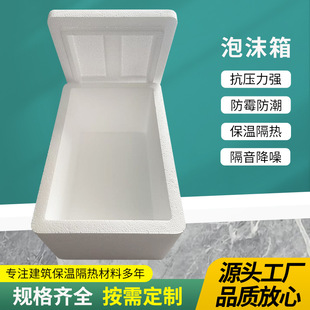泡沫箱: (32, 10, 185, 259)
